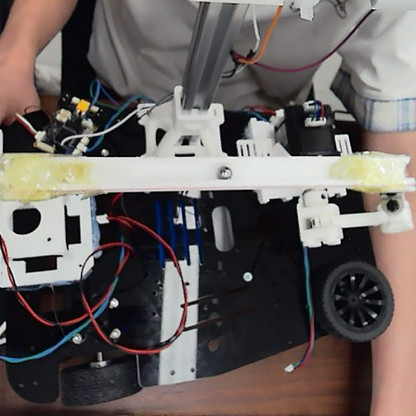ironball: (217, 164, 232, 179)
